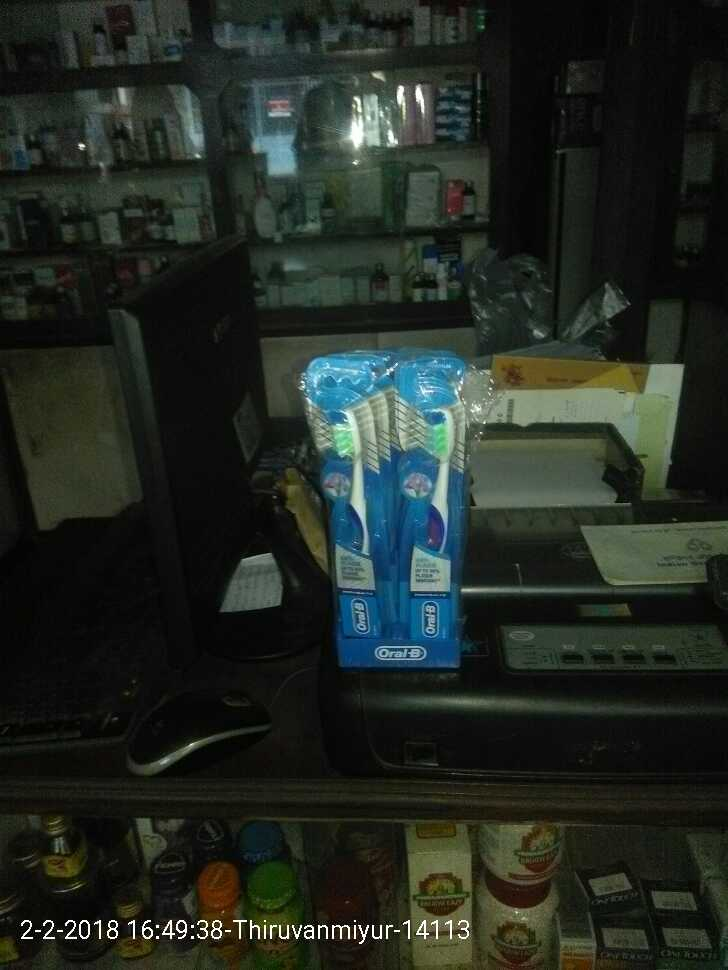oralb: (308, 407, 385, 647), (402, 405, 457, 650)
